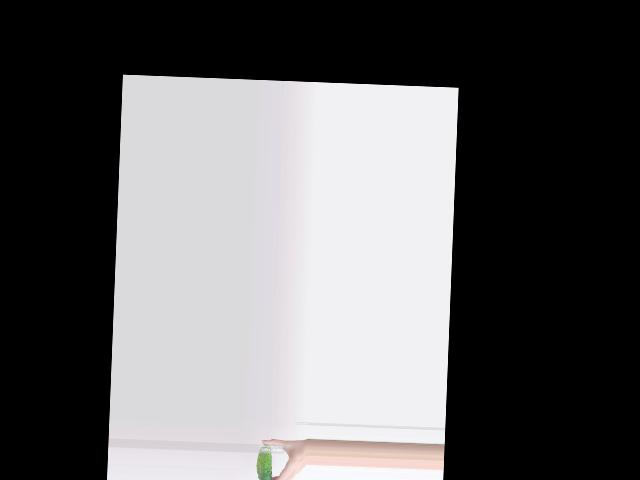cucumber: (255, 443, 272, 480)
